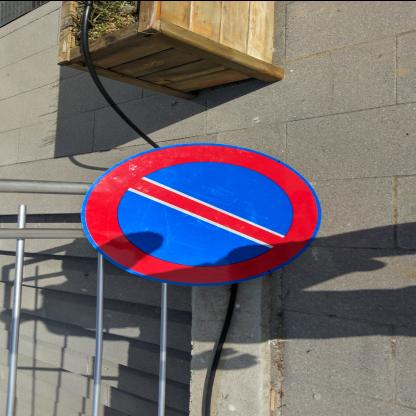No Waiting: (81, 143, 323, 287)
